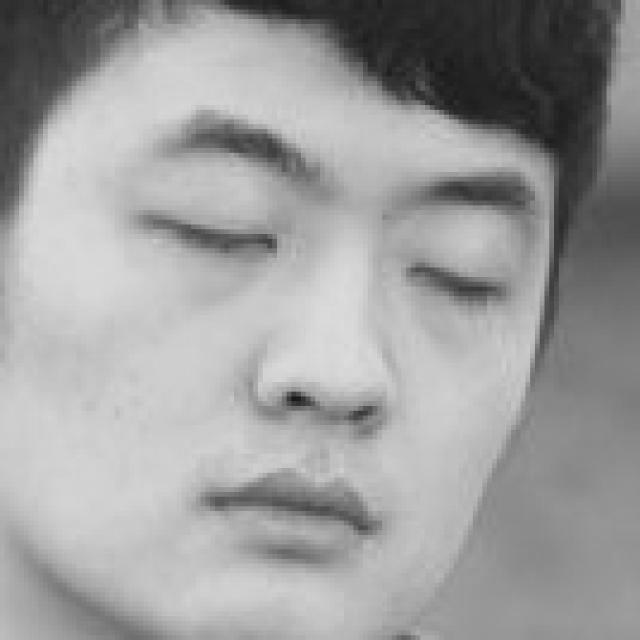real: (26, 0, 522, 602), (160, 164, 538, 328)
